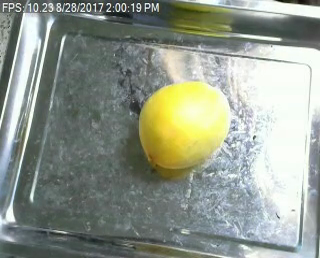Mango: (131, 81, 232, 170)
